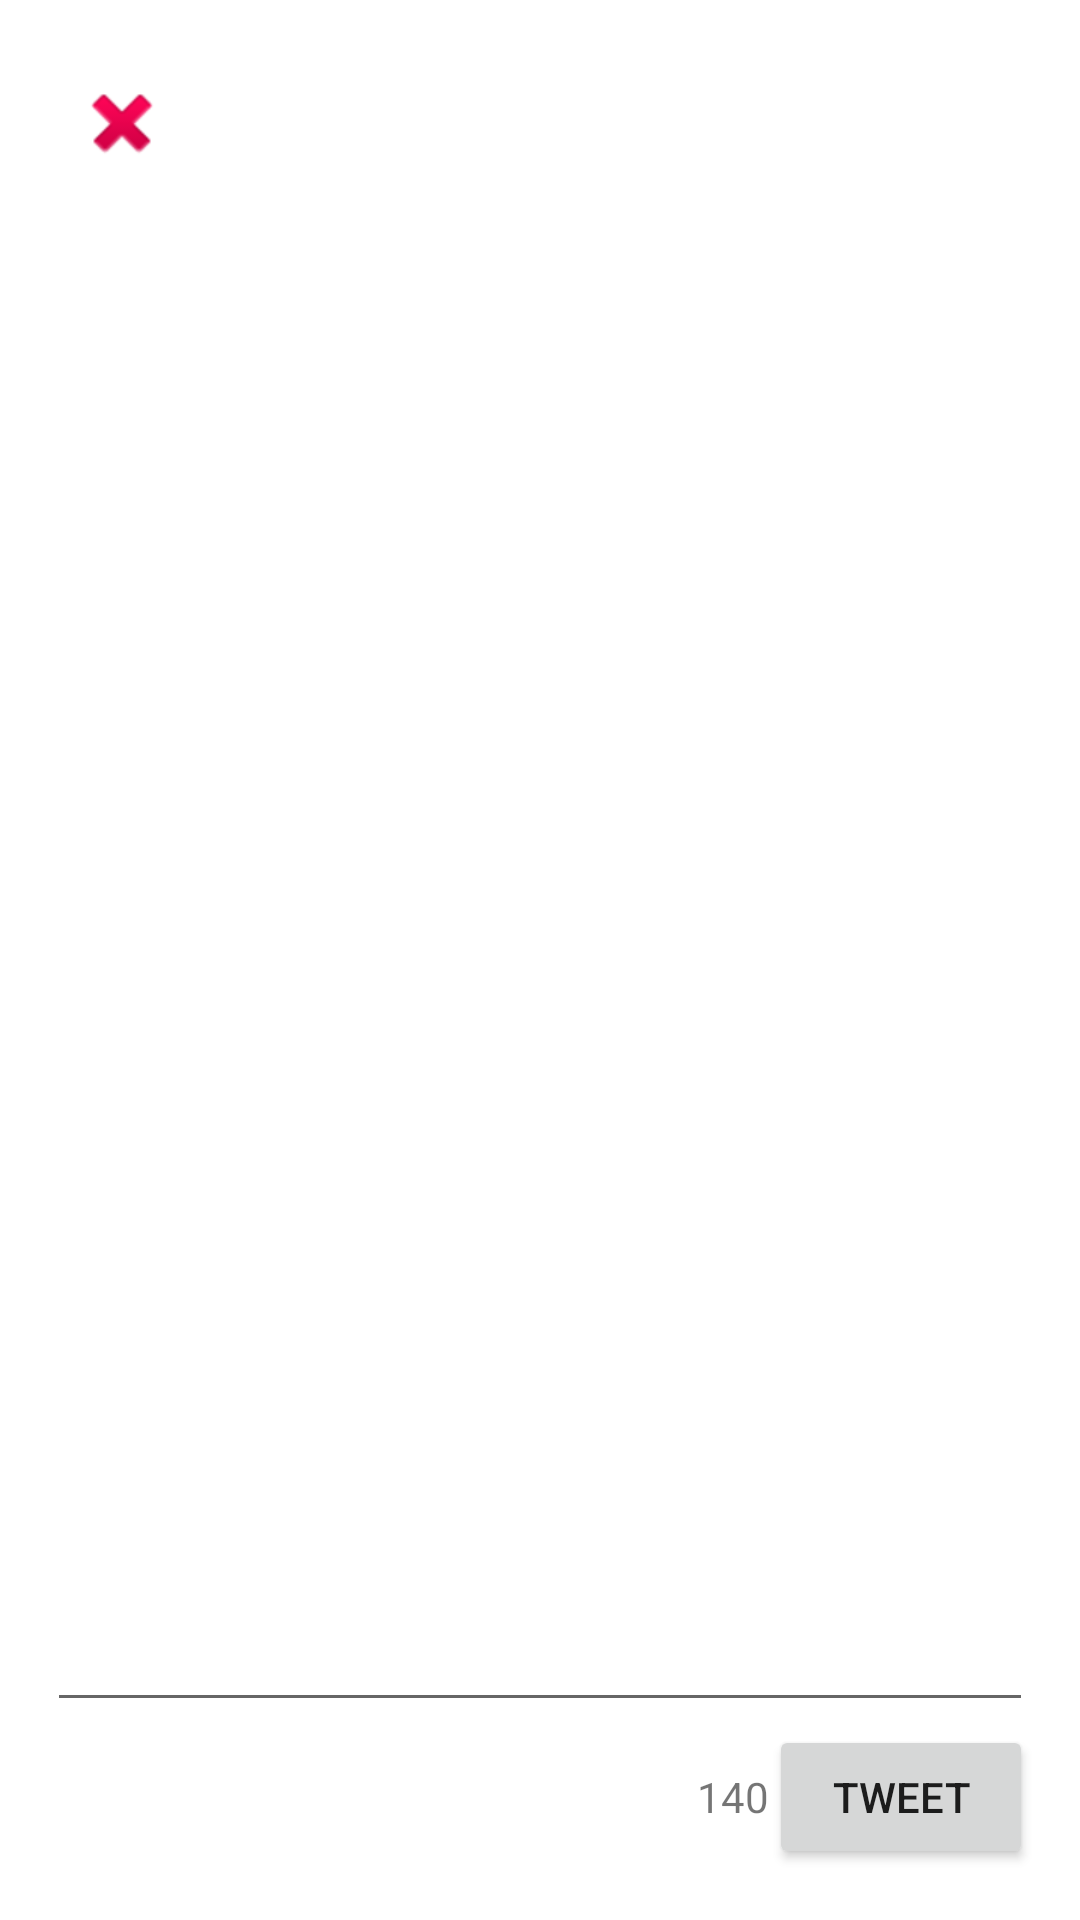

Where to tap for icons on this 1080*1920 app screen, as (x=x, y=y):
delete: (x=120, y=122)
